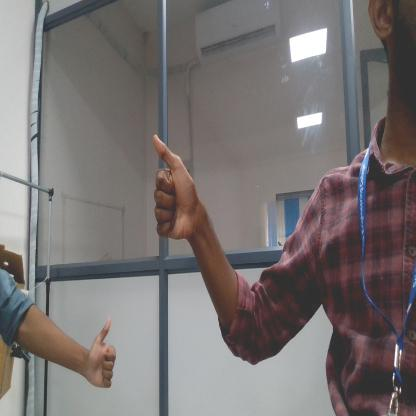Thumbs up: (148, 127, 201, 258), (85, 305, 119, 399)
